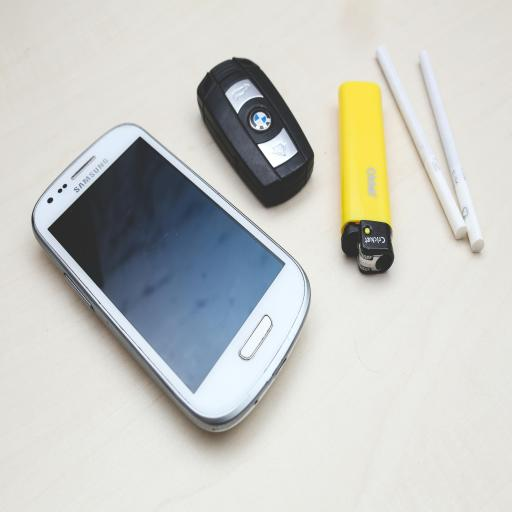lighter: (333, 55, 401, 287)
